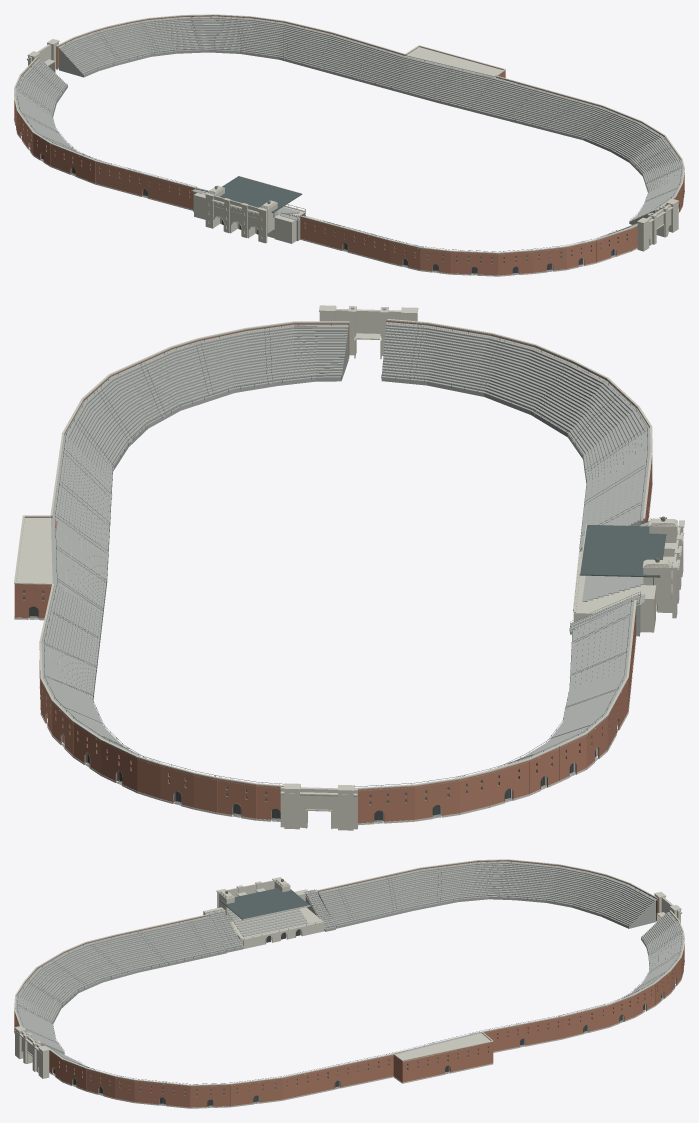
The model's file is yangpu-jiangwan-stadium-lod.glb.
The picture shows the model from 3 angles, top to bottom: view 1: azimuth 30°, elevation 25°; view 2: azimuth 150°, elevation 25°; view 3: azimuth 270°, elevation 25°; orthographic projection. The views are drawn at different scales.
Visible parts, largest first — view 1: 江湾体育场历史主场（看台与入口）; view 2: 江湾体育场历史主场（看台与入口）; view 3: 江湾体育场历史主场（看台与入口）.
Boxes of the visible parts, <box> form: 江湾体育场历史主场（看台与入口）: <box>14,14,684,276</box>; 江湾体育场历史主场（看台与入口）: <box>14,305,684,830</box>; 江湾体育场历史主场（看台与入口）: <box>14,859,684,1108</box>.
Size of the model in its own units: 250 by 18.63 by 313.
